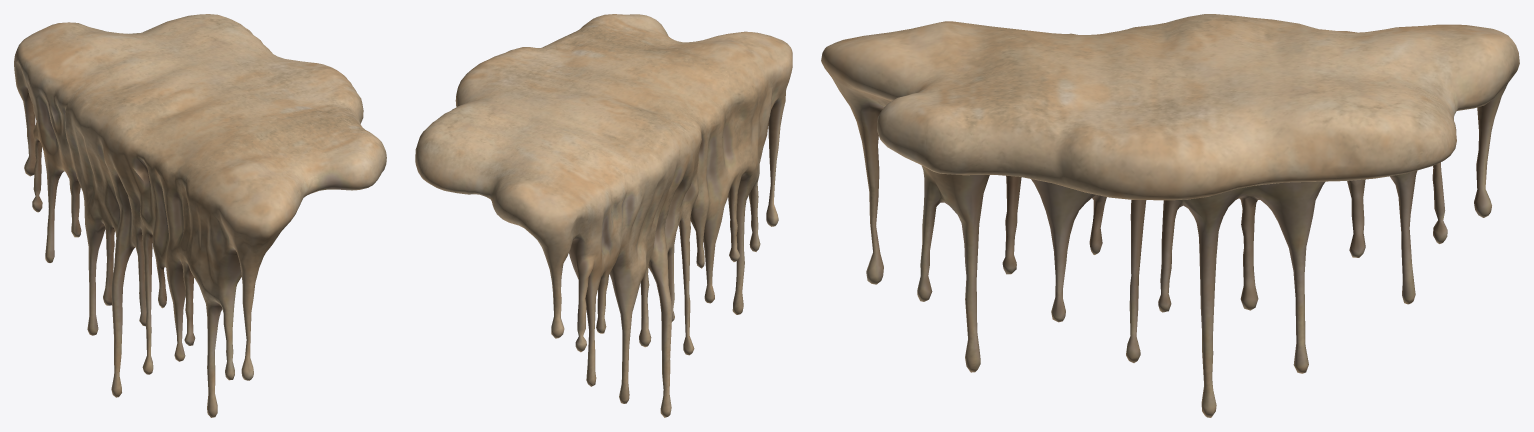
The model's file is SM_Candle_low_001.fbx.
3 renders of one model, left to right at view 1: azimuth 30°, elevation 25°; view 2: azimuth 150°, elevation 25°; view 3: azimuth 270°, elevation 25°, orthographic. The views are drawn at different scales.
Visible parts, largest first — view 1: SM_Candle_low_001_LOD0; view 2: SM_Candle_low_001_LOD0; view 3: SM_Candle_low_001_LOD0.
Boxes of the visible parts, bbox=[...] form: SM_Candle_low_001_LOD0: bbox=[14, 14, 386, 417]; SM_Candle_low_001_LOD0: bbox=[415, 14, 792, 417]; SM_Candle_low_001_LOD0: bbox=[821, 14, 1519, 417].
Size of the model in its own units: 20.8 by 38.5 by 25.58.
1 material, 1 textured.
